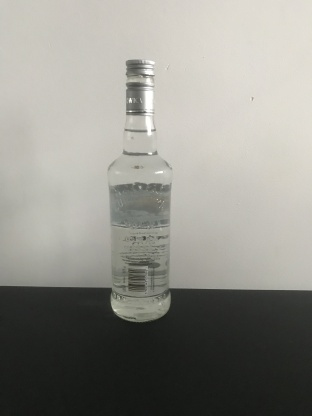nakretka: (124, 58, 156, 115)
